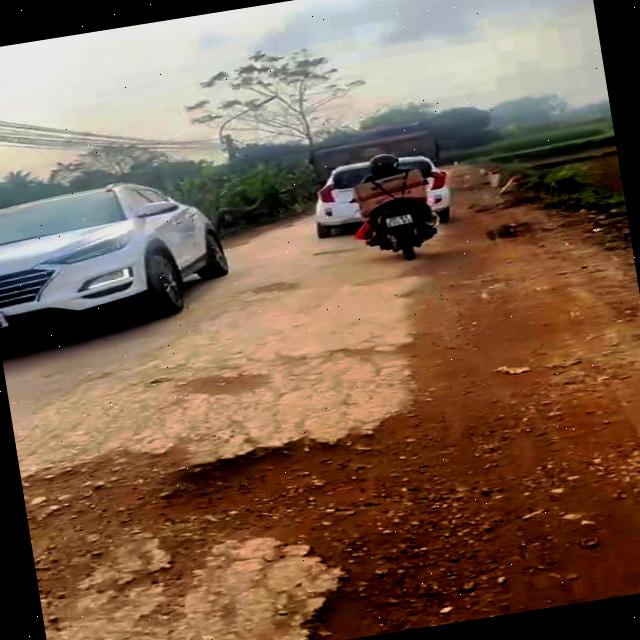pothole: (19, 364, 640, 640), (178, 361, 278, 406), (248, 278, 300, 299)
